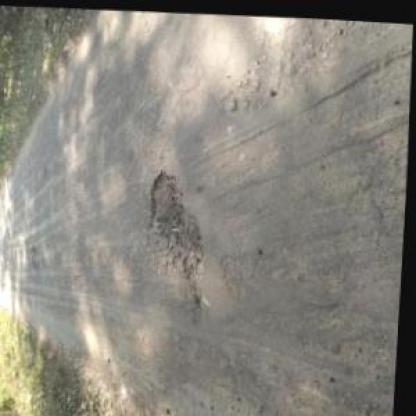pothole: (146, 161, 209, 274), (31, 241, 40, 265)
